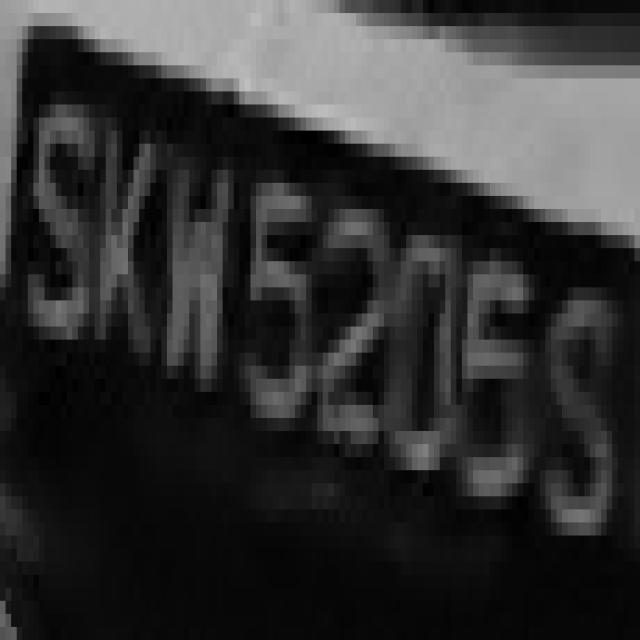0: (384, 183, 451, 562)
2: (317, 157, 390, 509)
5: (445, 196, 529, 535), (240, 131, 318, 470)
K: (89, 91, 156, 379)
S: (11, 65, 100, 353), (534, 261, 618, 562)
W: (150, 117, 234, 405)
